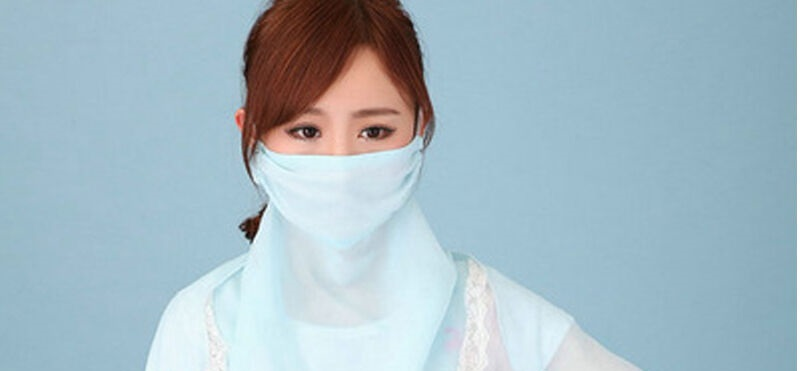face_mask: (264, 46, 414, 243)
